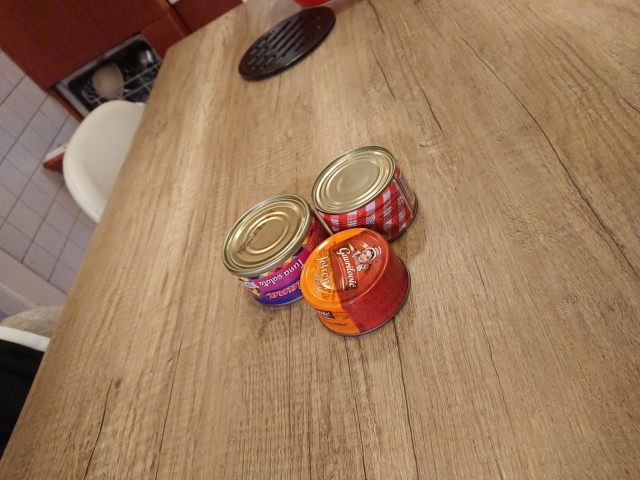Gavrilovic Pork Liver Pate 100g: (297, 224, 414, 341)
Giana Tuna Salad Mexico 185g: (219, 190, 337, 312)
Podravka Luncheon Meat 150g: (307, 143, 422, 251)
